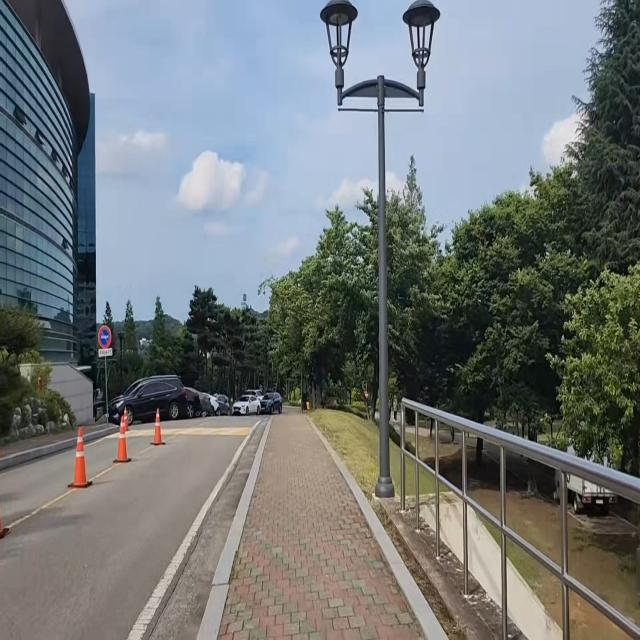obstacle: (318, 6, 454, 501), (108, 361, 192, 422), (62, 425, 92, 493), (98, 321, 116, 427), (111, 401, 139, 461)
road: (0, 418, 266, 640)
sidewalk: (195, 415, 446, 640)
